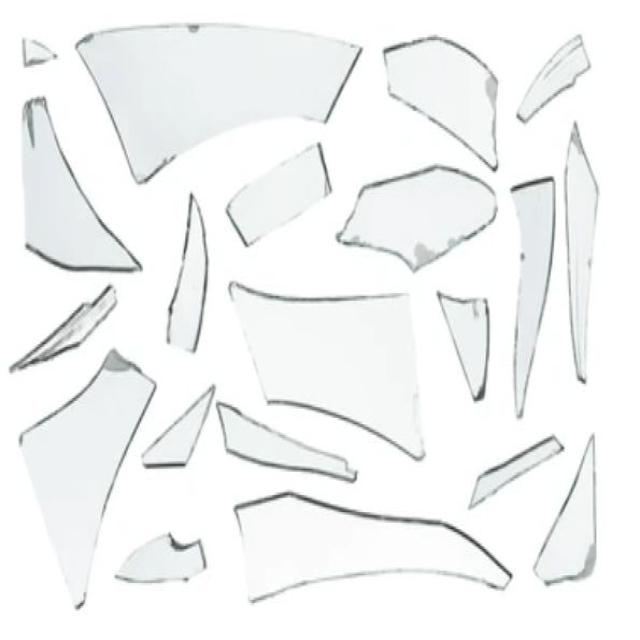electronic: (6, 19, 604, 614)
